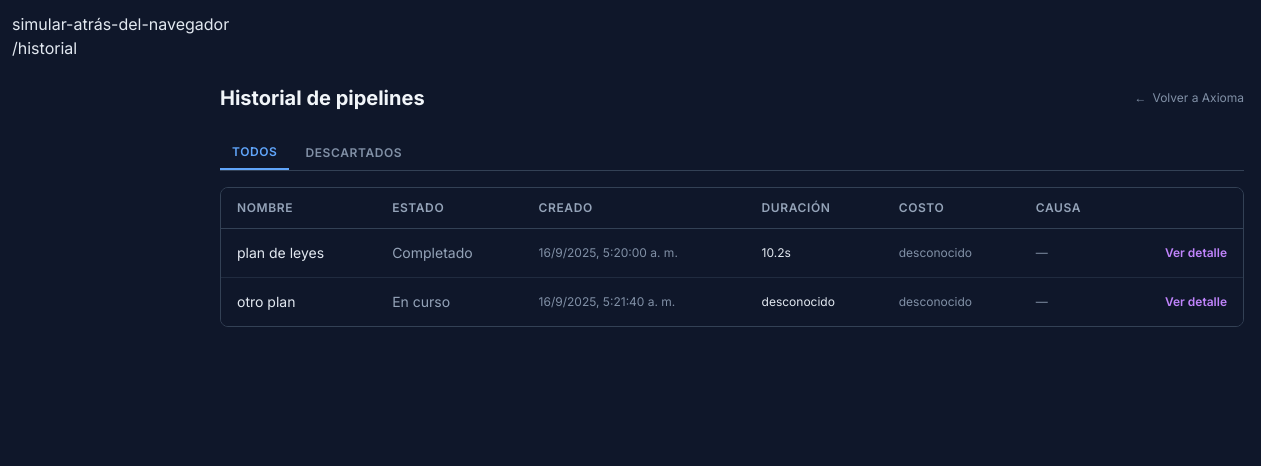
Test: Historial › "Ver detalle" en una fila navega a /historial/:id -- la URL refleja la selección
Expected: the text "plan de leyes" is shown, [221,228,376,278]
Expected: the text with test id "ruta" reads "/historial", [12,38,77,58]
Click the button "Ver detalle" in the row of "plan de leyes": click(1196, 253) [1165,241,1227,265]
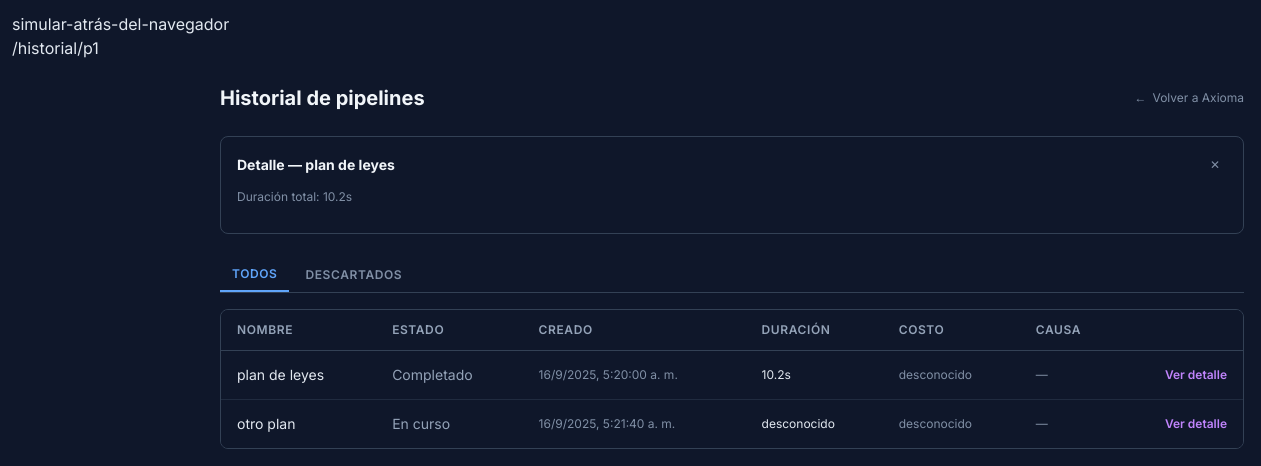
Expected: the heading "Detalle — plan de leyes" is shown, [237,155,395,175]
Expected: the text with test id "ruta" reads "/historial/p1", [12,38,99,58]
